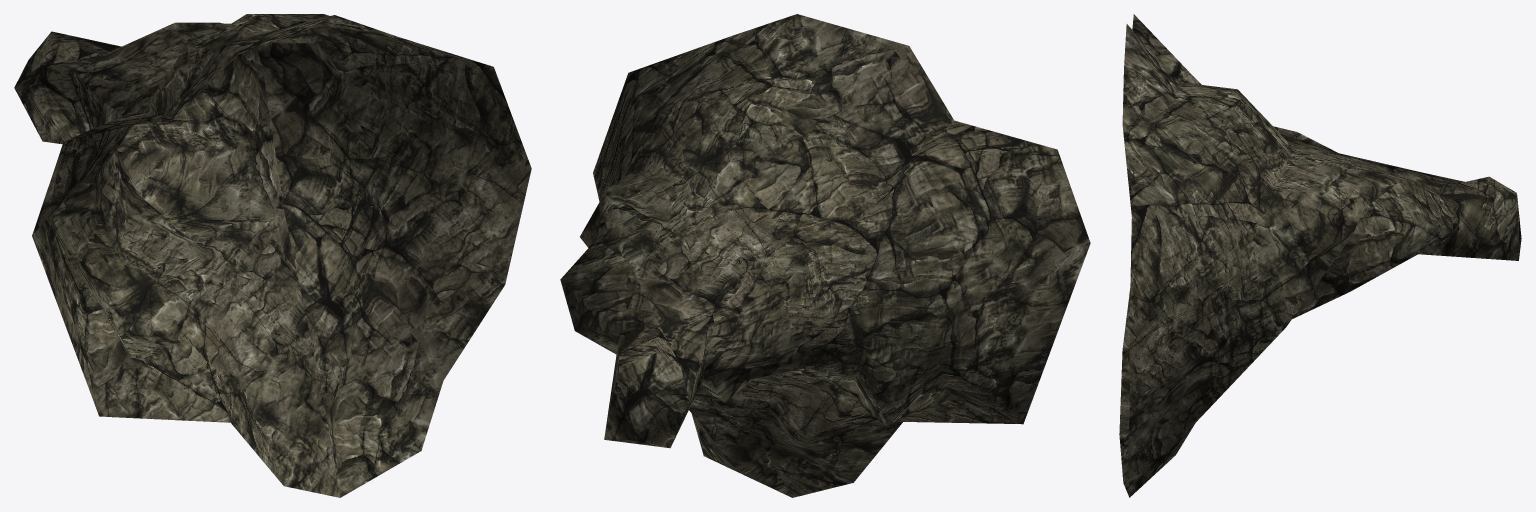
File: Cliff_03_02.fbx
3 views of the same model, side by side, from view 1: azimuth 30°, elevation 25°; view 2: azimuth 150°, elevation 25°; view 3: azimuth 270°, elevation 25° (orthographic). The views are drawn at different scales.
Visible parts, largest first — view 1: Cliff_03_02; view 2: Cliff_03_02; view 3: Cliff_03_02.
Part boxes in pixels (<box>): Cliff_03_02: <box>14,14,531,497</box>; Cliff_03_02: <box>560,14,1090,497</box>; Cliff_03_02: <box>1119,14,1521,497</box>.
Bounding box in the file's own units: 25.84 × 24 × 21.19.
Materials: 1 (1 with a texture image).
